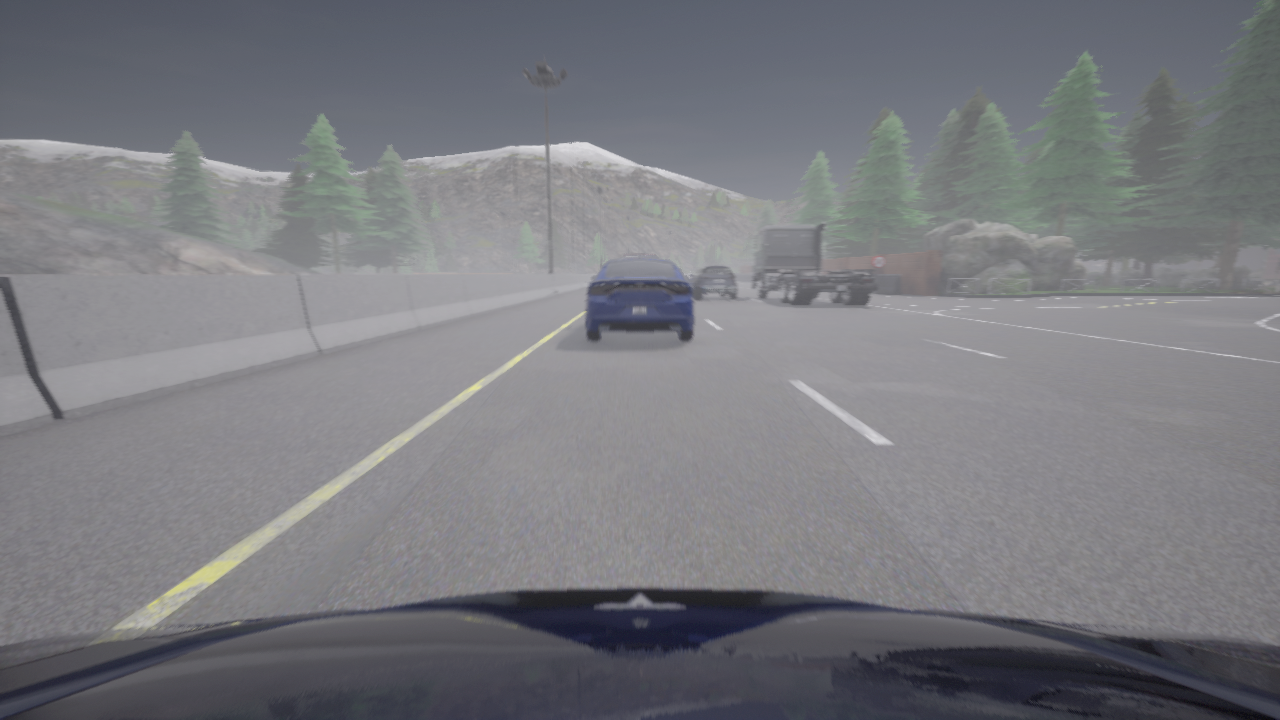cyclist: (0, 588, 1279, 719), (749, 222, 878, 305), (586, 256, 693, 340), (689, 264, 737, 299), (621, 255, 658, 258)
